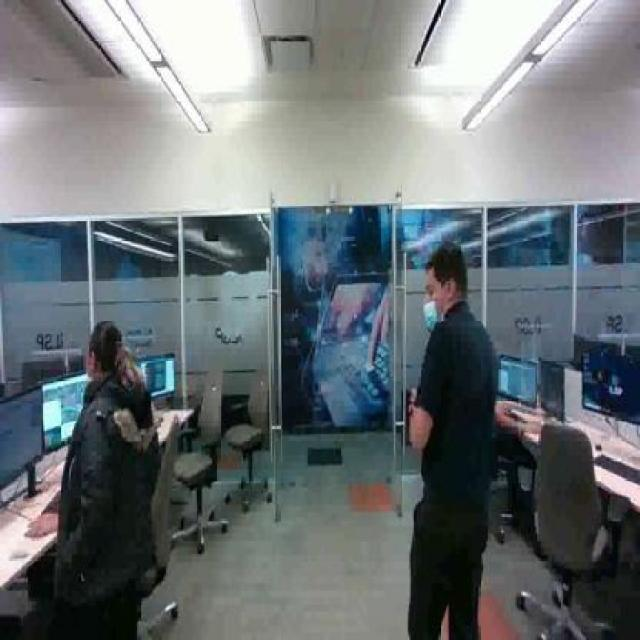sem_oculos: (422, 280, 462, 300), (80, 345, 105, 366)
